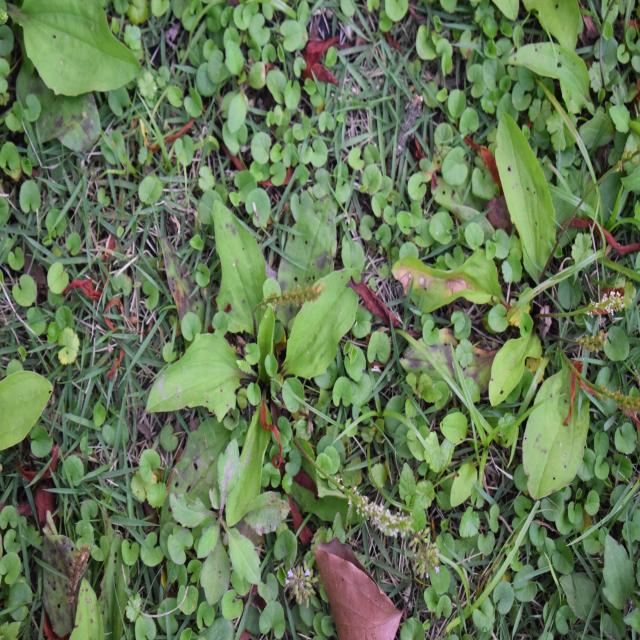plantain: (157, 199, 370, 470)
